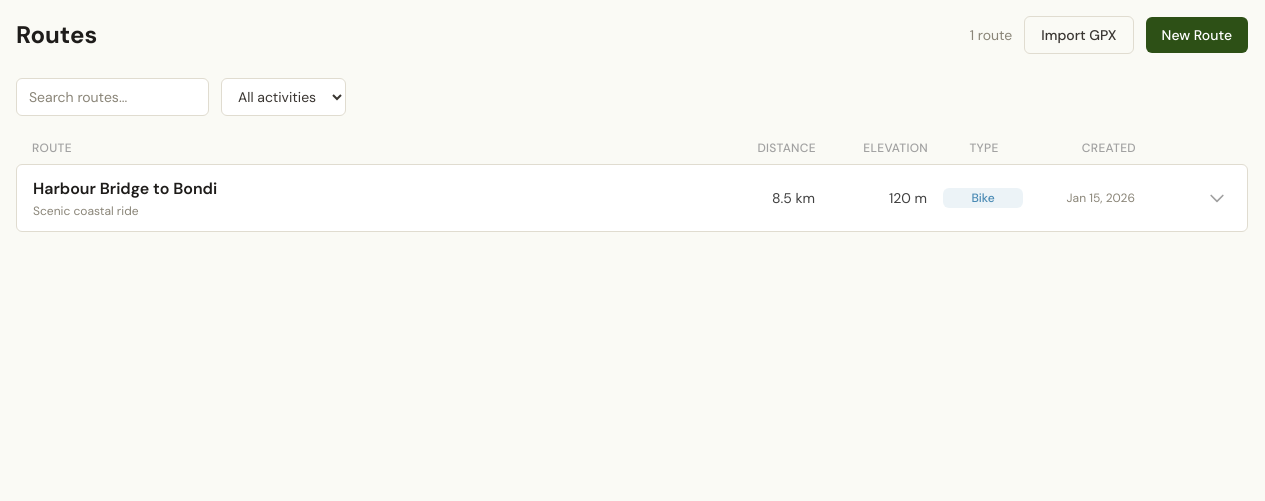
Test: RoutesPage › collapses expanded row on second chevron click
This screenshot has width=1265, height=501.
Expected: the link "Harbour Bridge to Bondi" is shown, [33, 178, 217, 199]
Click the button named "Expand details" at (1217, 198), box [1203, 184, 1231, 212]
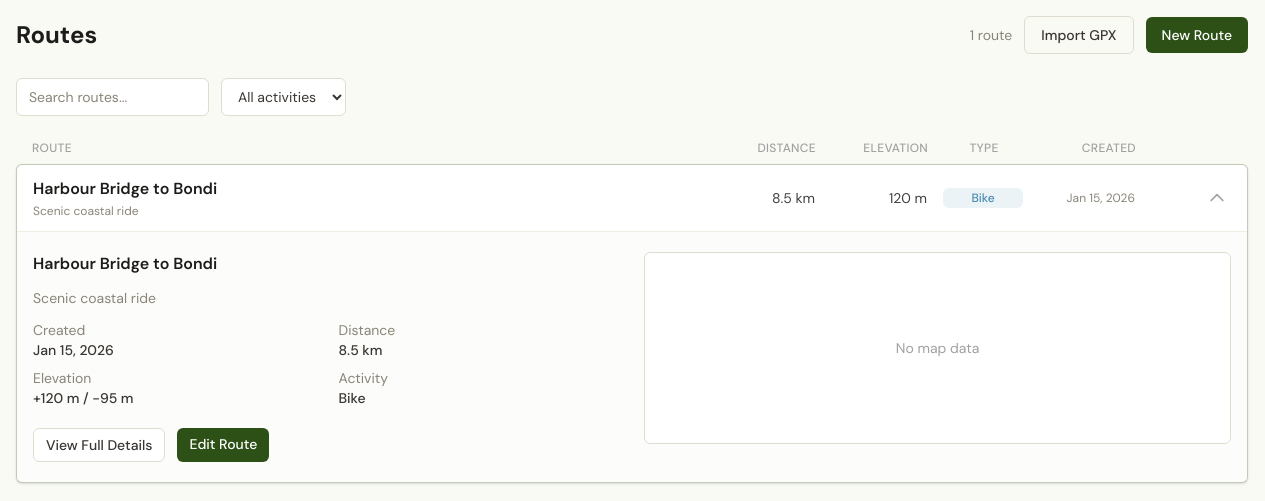
Expected: the link "View Full Details" is shown, [33, 428, 166, 462]
Click the button named "Collapse details" at (1217, 198), box [1203, 184, 1231, 212]
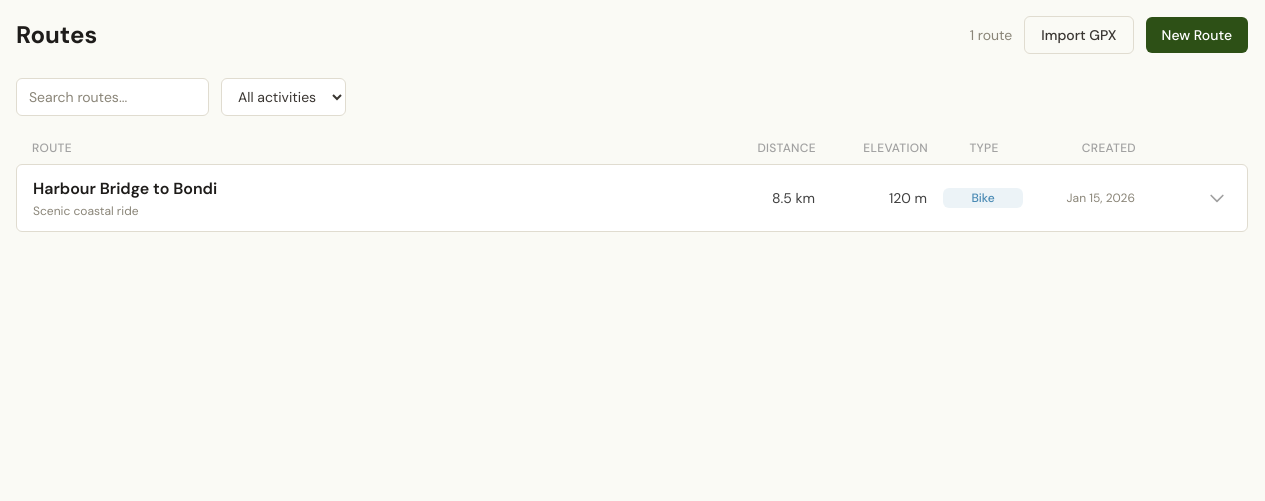
Expected: the link "View Full Details" is gone
